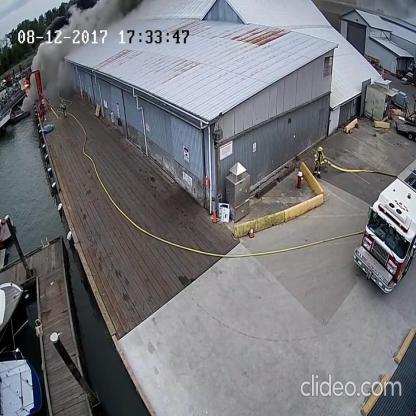fire: (22, 77, 32, 97)
